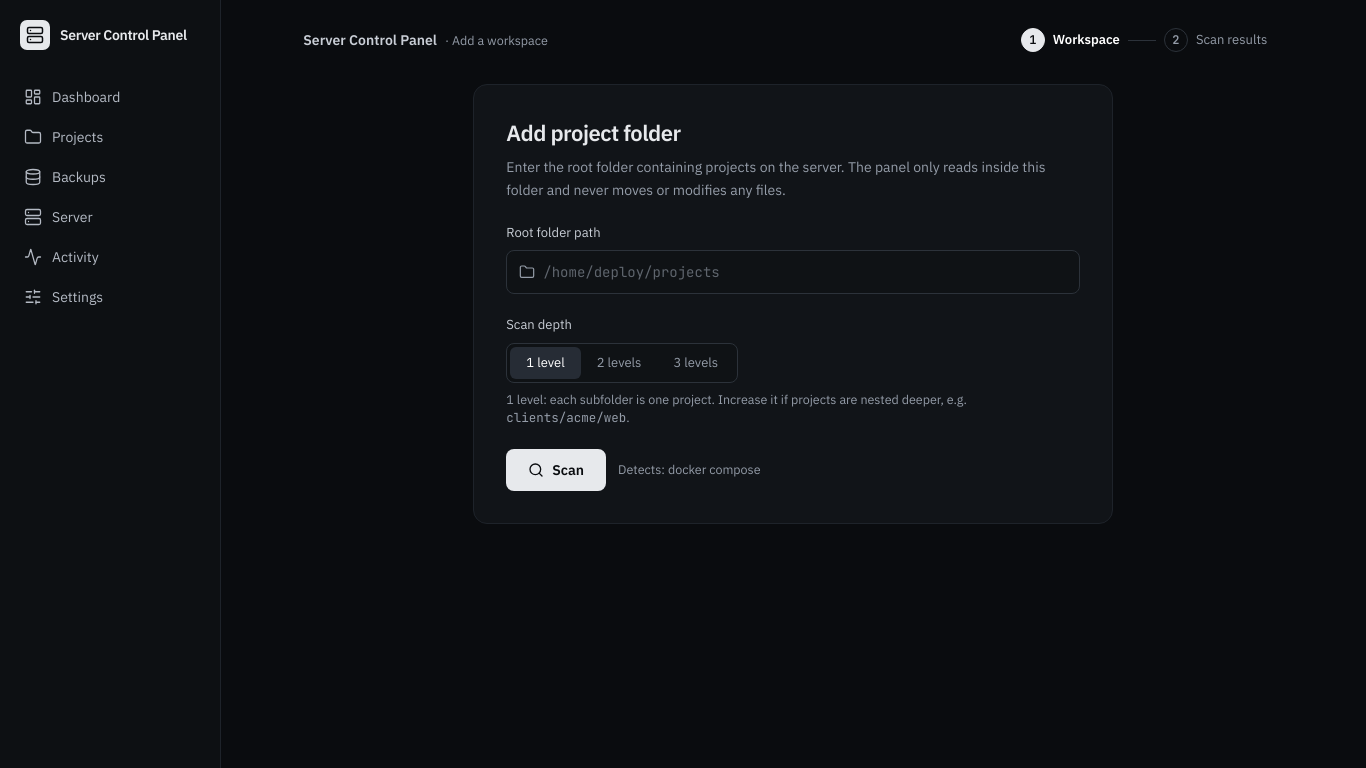
Test: onboarding, step 1 › shows a 422 message under the field, with aria-invalid
Type "/nope" into the field labelled "Root folder path".
click(805, 272); type("/nope")  # box [543,262,1067,282]
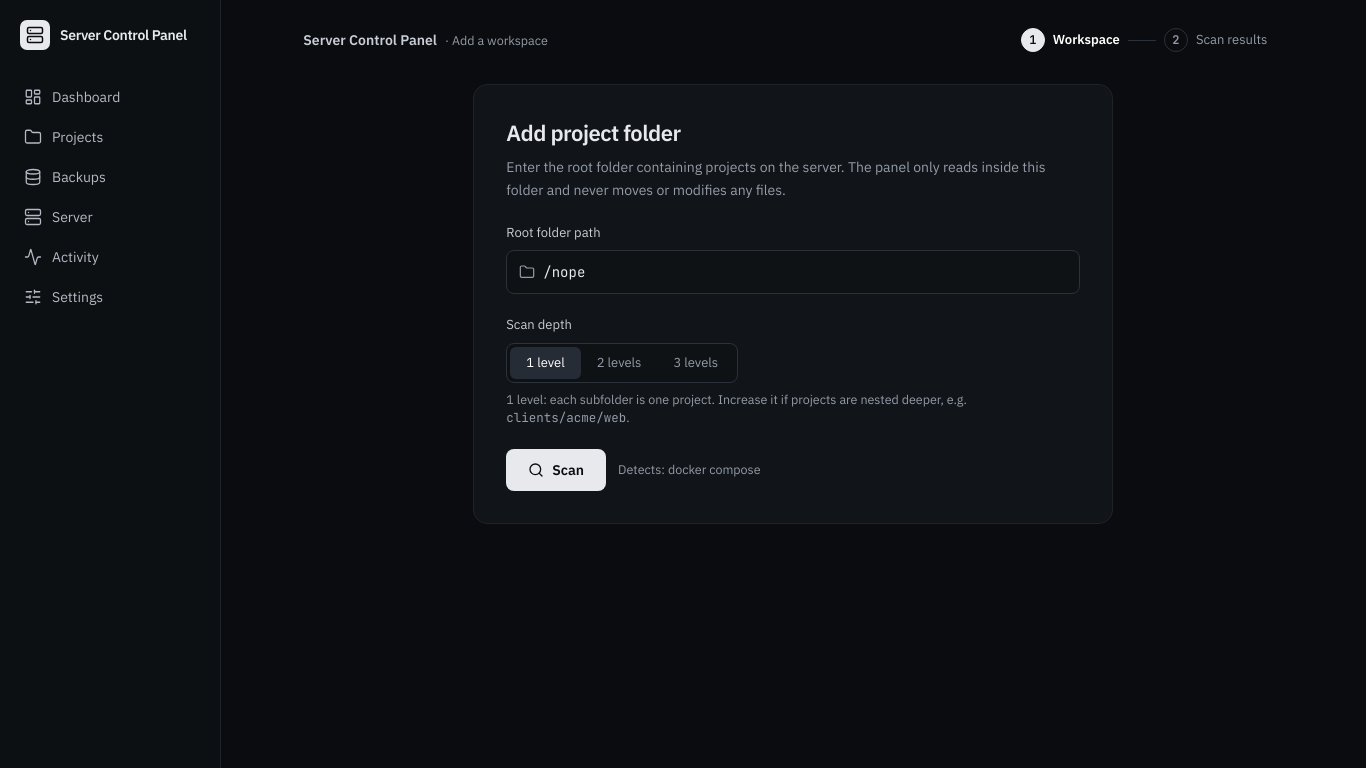
Click the button "Scan".
click(556, 470)  # box [506,449,606,491]
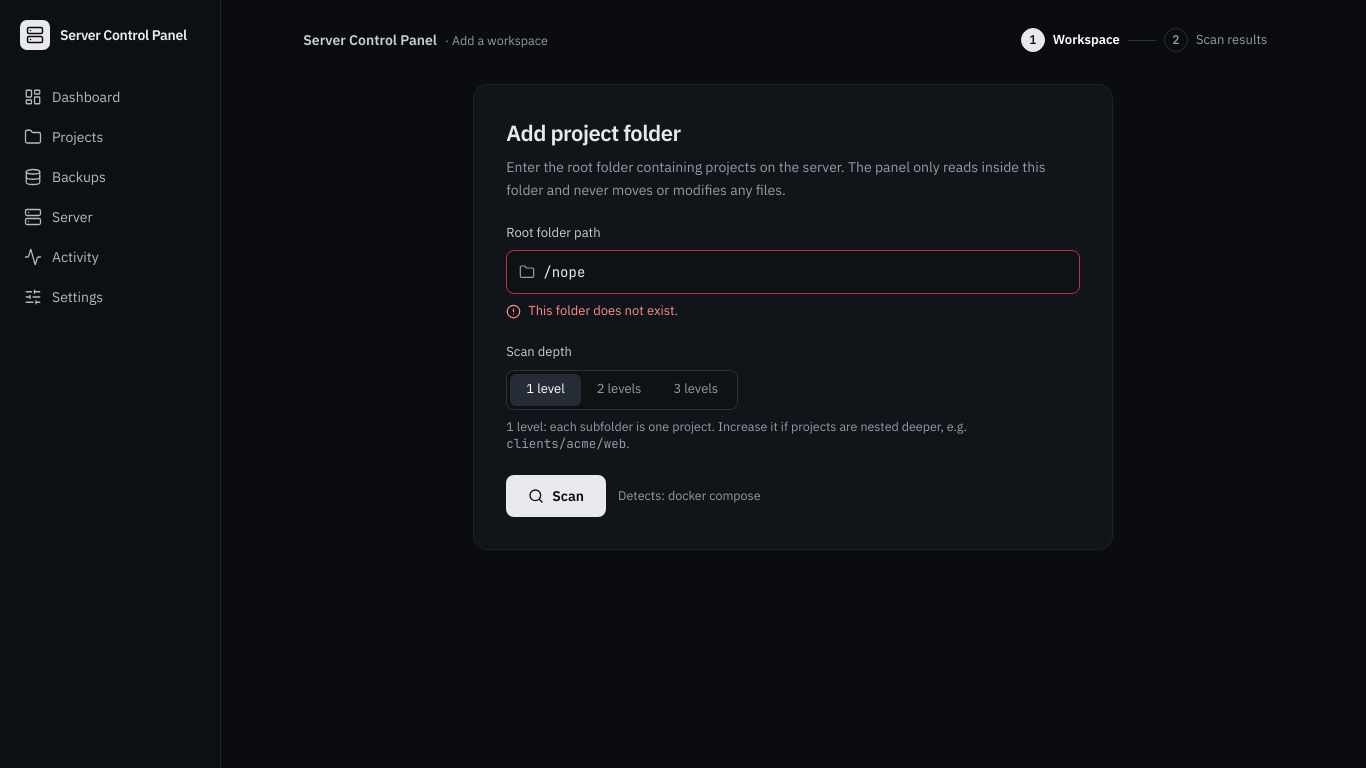
Check: the text "This folder does not exist." is shown, box [528,302,678,321]
